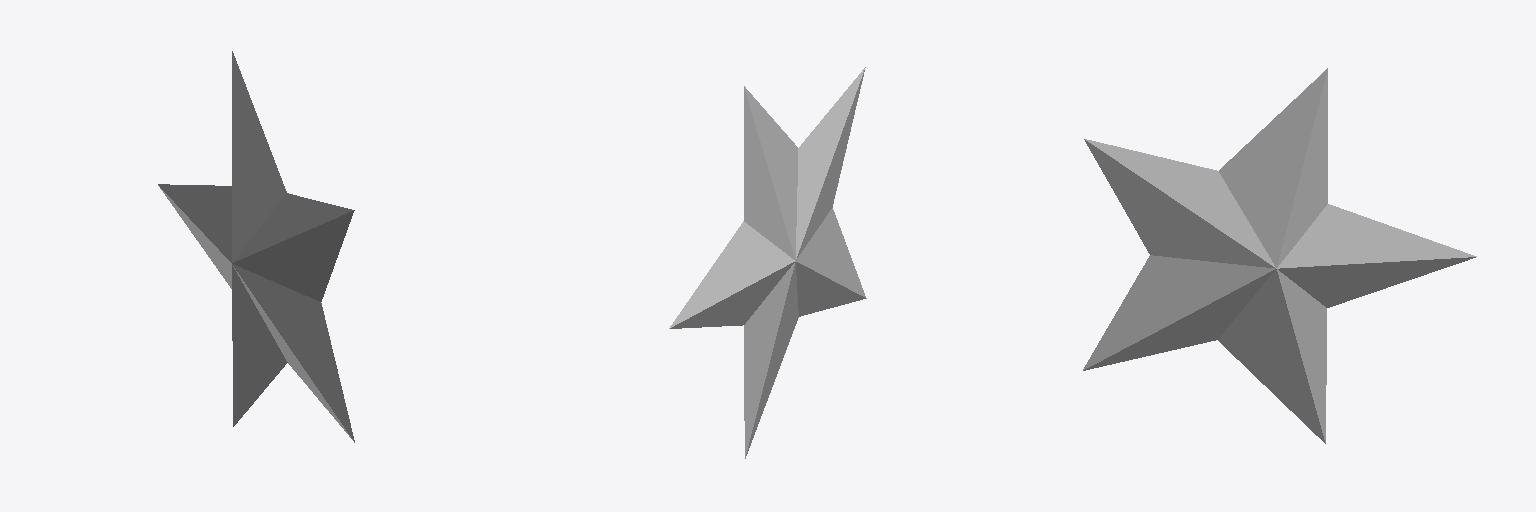
File: Star.obj
The picture shows the model from 3 angles: view 1: azimuth 30°, elevation 25°; view 2: azimuth 150°, elevation 25°; view 3: azimuth 270°, elevation 25°; orthographic projection.
Parts seen in each view (by area): view 1: Star; view 2: Star; view 3: Star.
Boxes of the visible parts, <box> form: Star: <box>158,51,354,442</box>; Star: <box>669,67,866,458</box>; Star: <box>1083,68,1476,443</box>.
Bounding box in the file's own units: 0.227 × 1.57 × 1.5.